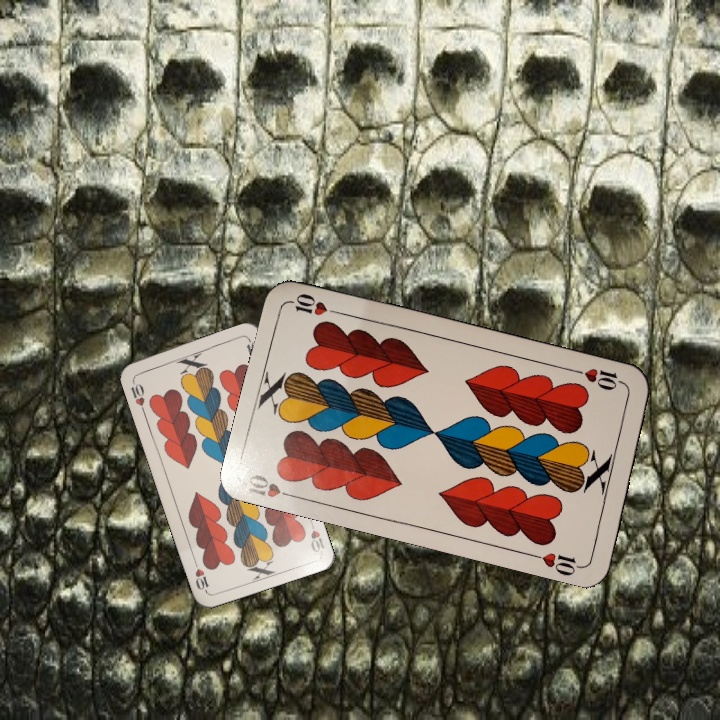H10: (241, 470, 301, 502), (570, 364, 629, 393), (305, 515, 327, 555), (126, 375, 148, 415)
